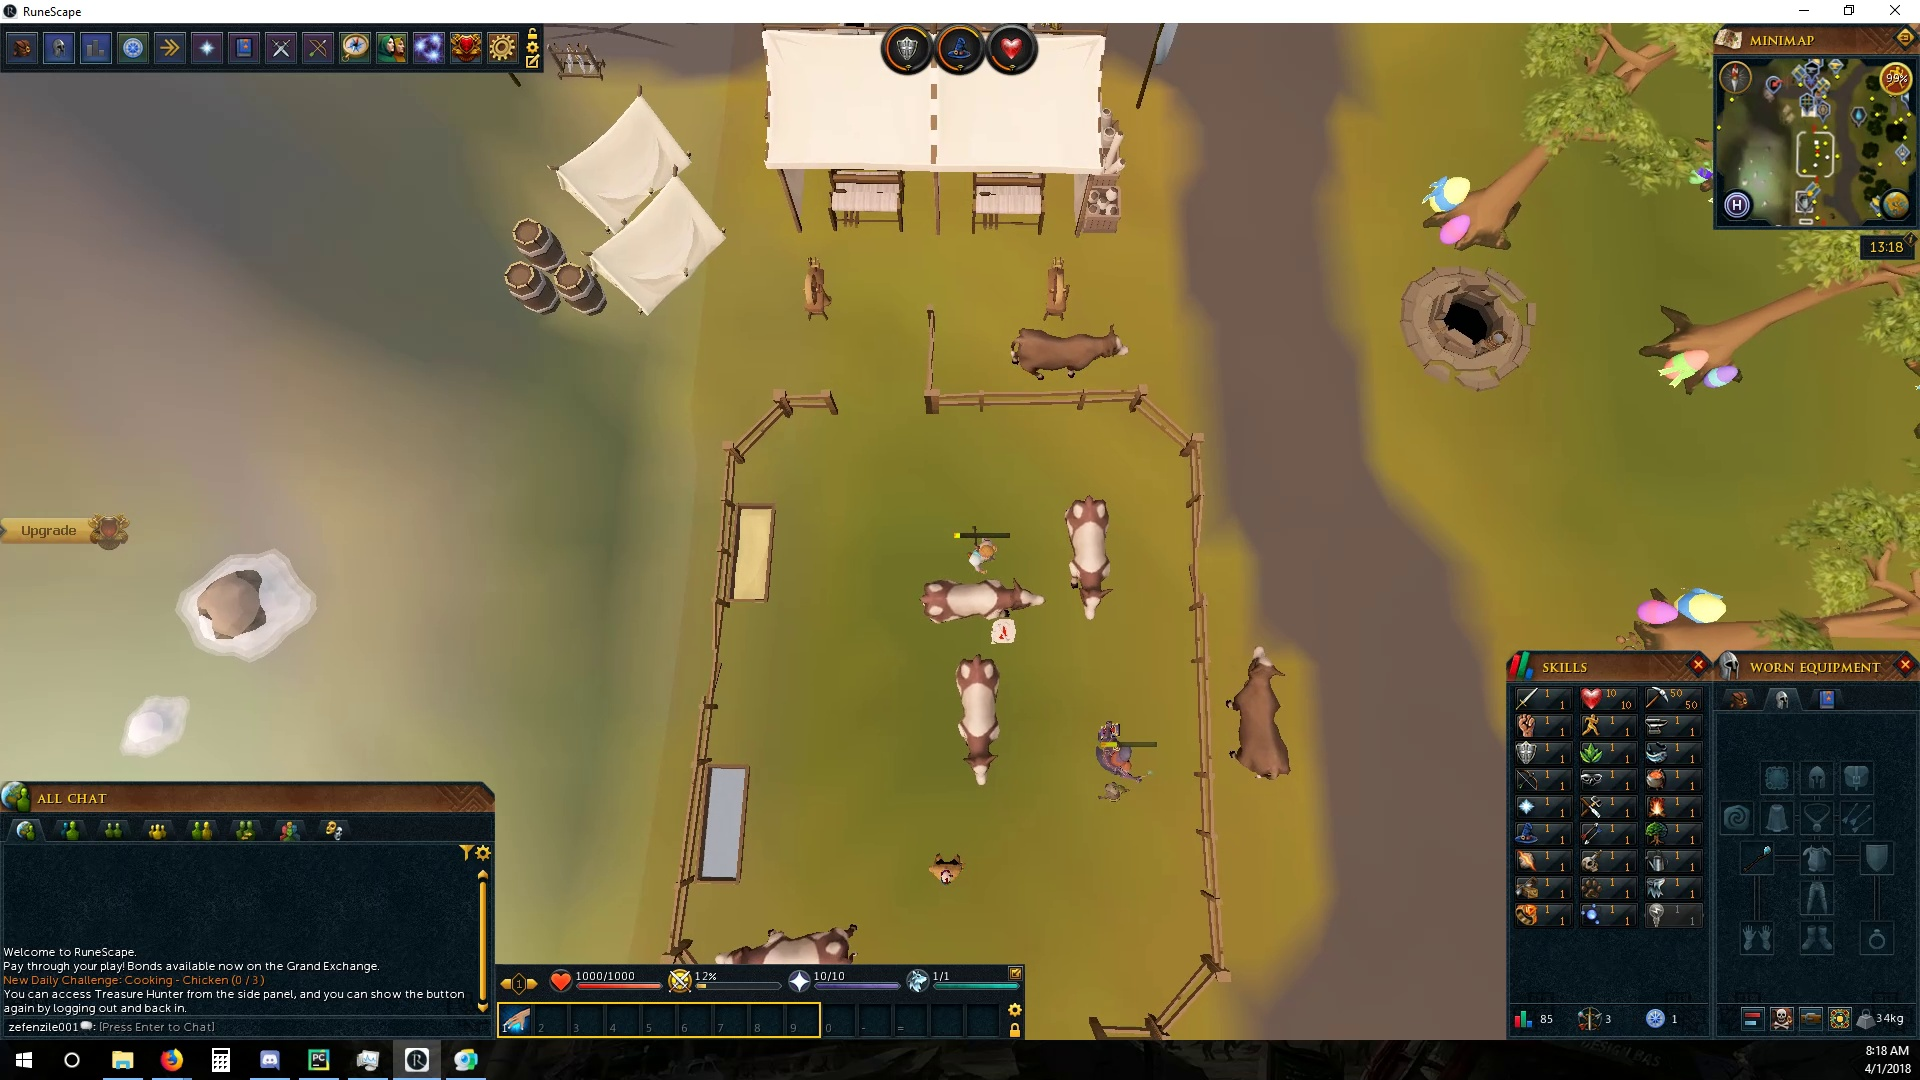cow: (1226, 644, 1296, 789), (953, 651, 1006, 789), (1007, 320, 1129, 380), (1062, 495, 1116, 624), (918, 574, 1048, 626), (713, 923, 864, 965)
cow_drop: (992, 615, 1017, 644)
